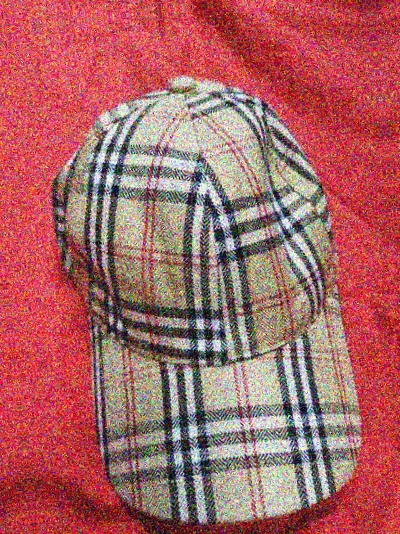Hat: (13, 30, 400, 534), (0, 79, 4, 534), (397, 0, 400, 508)
